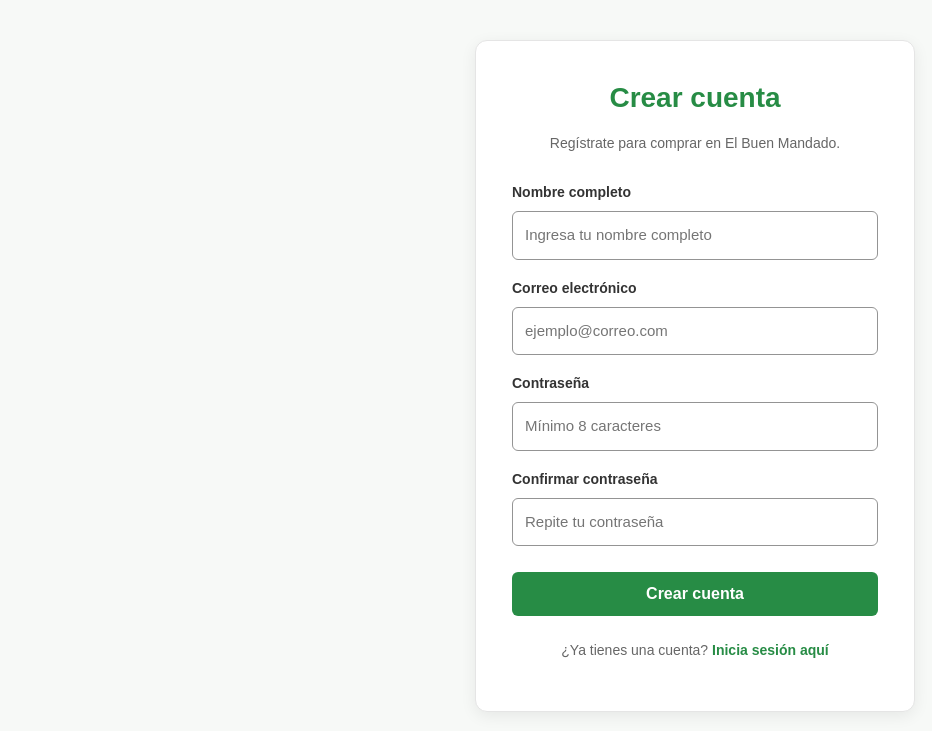
Scenario: Register › registra correctamente un usuario
Type "Usuario de prueba" into the field labelled "Nombre completo". click: (695, 235)
box: [512,211,878,260]
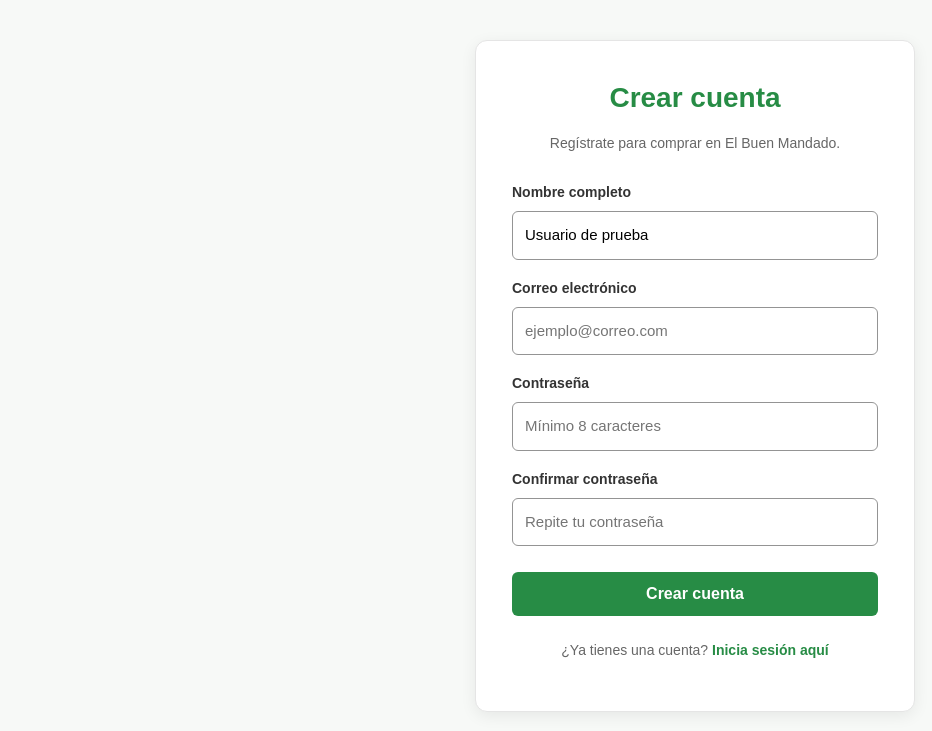
Type "usuario@correo.com" into the field labelled "Correo electrónico". click: (695, 331)
box: [512,306,878,355]
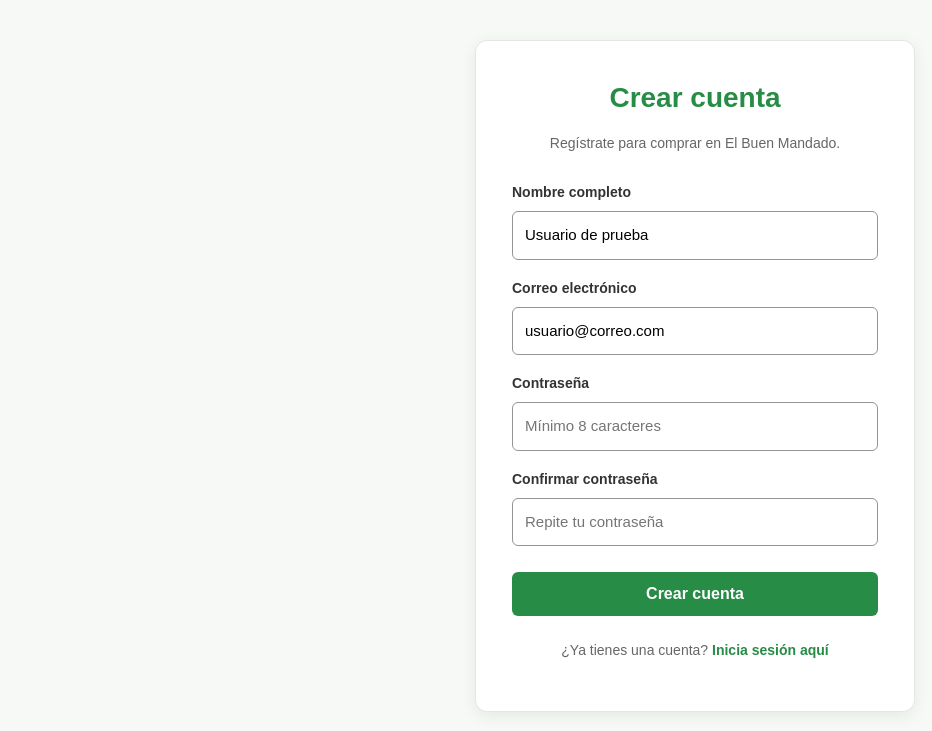
Type "prueba123" into the password field labelled "Contraseña". click: (695, 426)
box: [512,402,878,450]
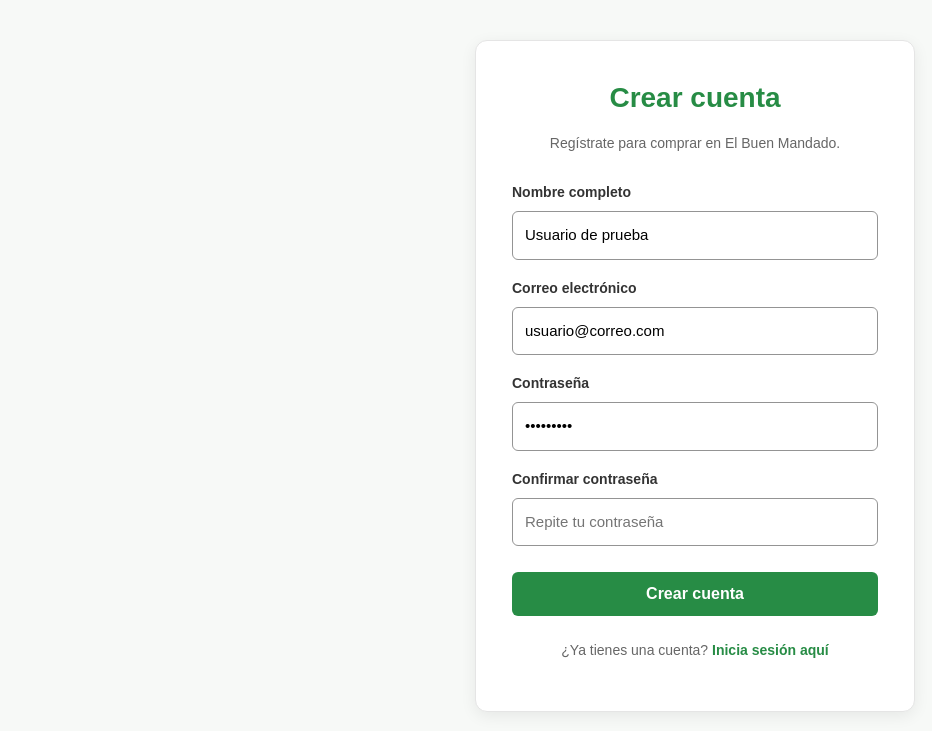
Type "prueba123" into the password field labelled "Confirmar contraseña". click: (695, 522)
box: [512,498,878,546]
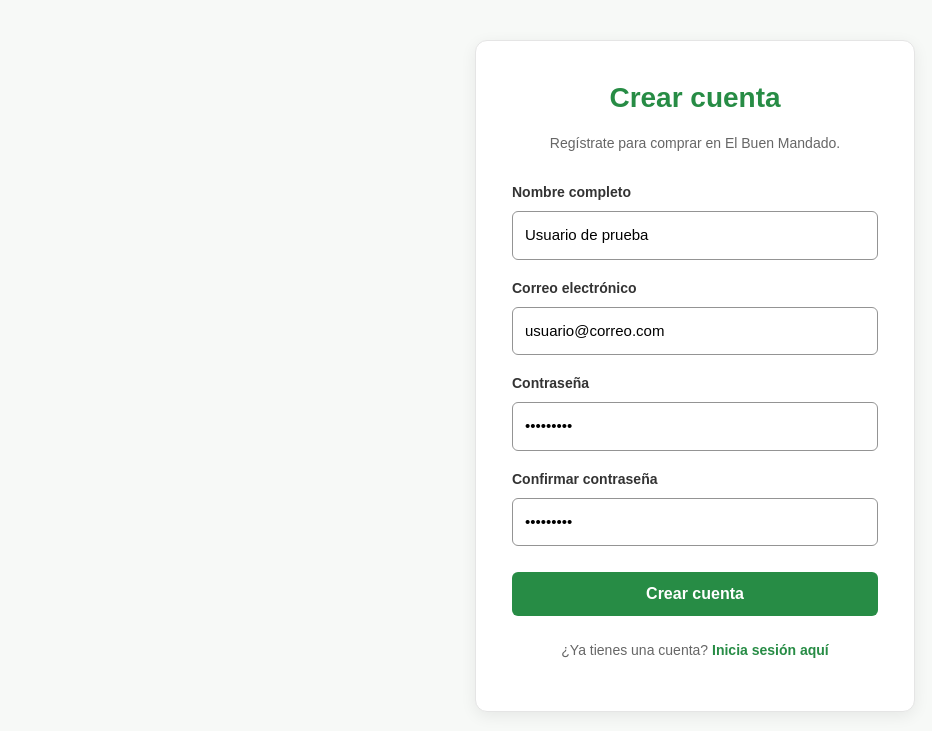
Click the button "Crear cuenta". click: click(695, 594)
box: [512,572,878,616]
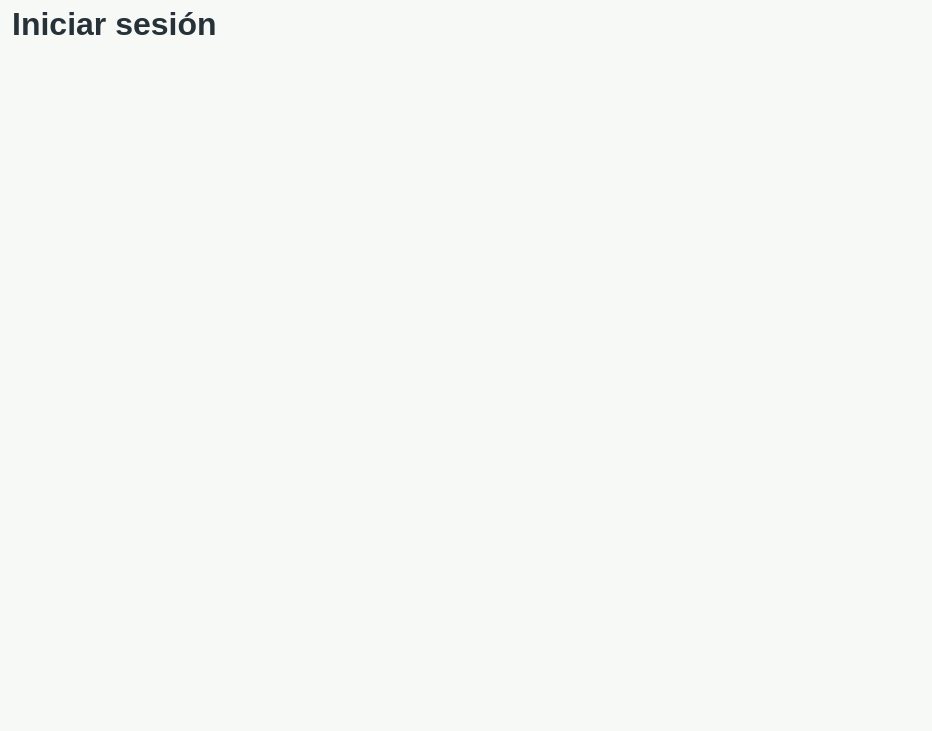
Check: the heading "Iniciar sesión" is shown, box [12,6,216,42]
